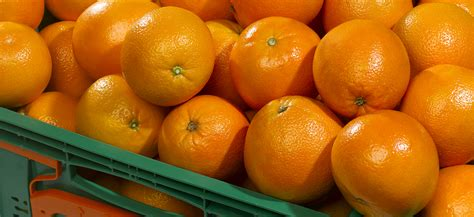orange: (329, 107, 439, 217), (308, 19, 412, 119), (247, 90, 338, 202), (157, 90, 261, 183), (119, 4, 215, 103), (227, 14, 318, 105), (72, 71, 162, 162)
